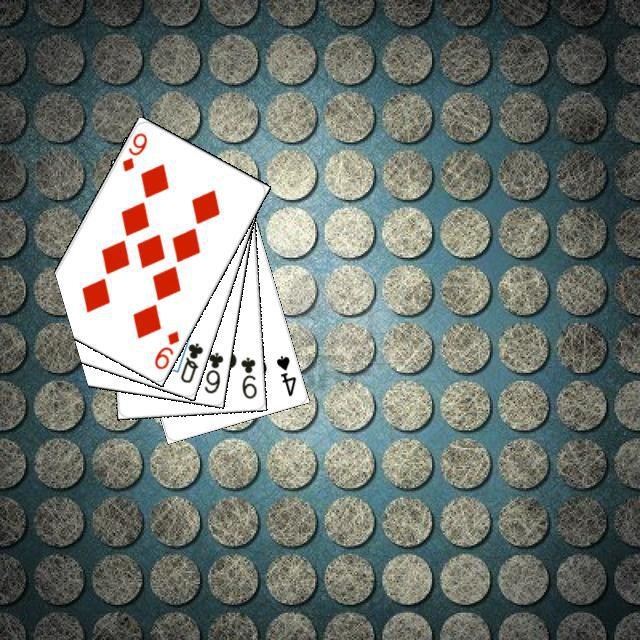4s: (271, 350, 298, 398)
6c: (199, 347, 225, 395)
9c: (236, 352, 259, 400)
9d: (149, 326, 181, 371), (117, 128, 149, 173)
Qc: (170, 331, 205, 385)
